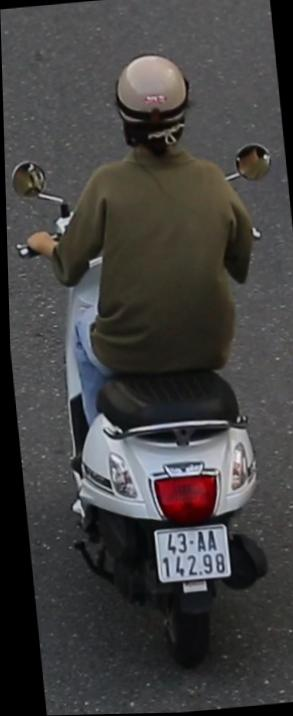LP: (141, 515, 239, 591)
helmet: (102, 46, 202, 158)
